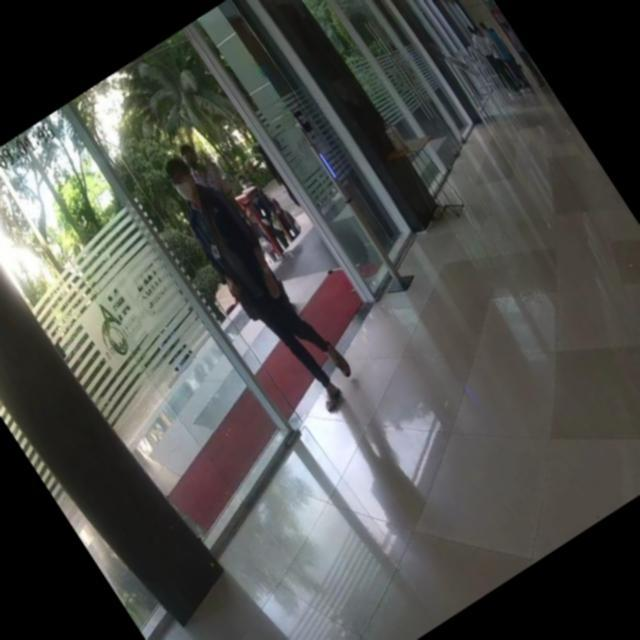person: (152, 138, 366, 424)
